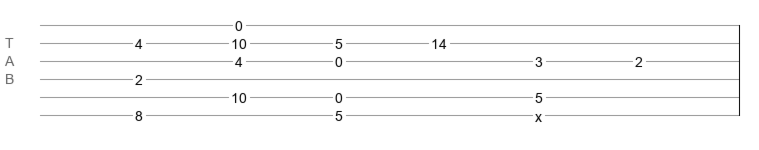0: (235, 18, 243, 28), (335, 54, 343, 64), (335, 90, 343, 100)
10: (231, 90, 247, 100), (231, 36, 247, 46)
14: (431, 36, 447, 46)
2: (135, 72, 143, 82), (635, 54, 643, 64)
3: (535, 54, 543, 64)
4: (135, 36, 143, 46), (235, 54, 243, 64)
5: (335, 108, 343, 118), (335, 36, 343, 46), (535, 90, 543, 100)
8: (135, 108, 143, 118)
x: (535, 109, 542, 117)
